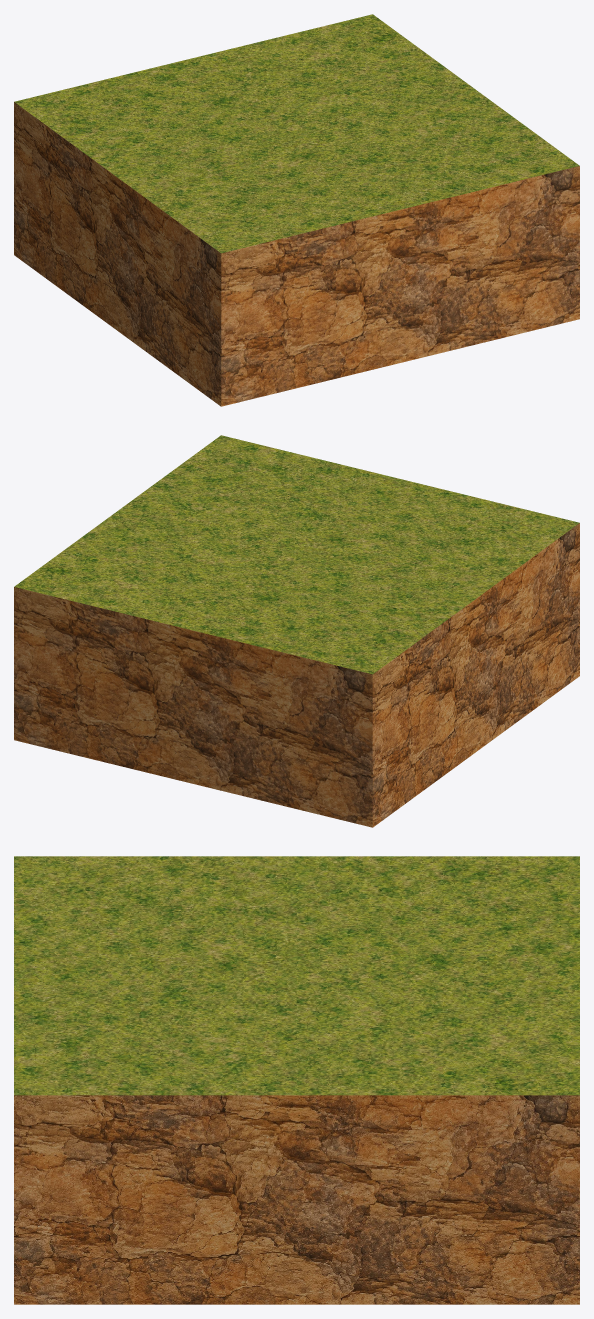
The model's file is plateau.glb.
3 views of the same model, one above another, from view 1: azimuth 30°, elevation 25°; view 2: azimuth 150°, elevation 25°; view 3: azimuth 270°, elevation 25° (orthographic). The views are drawn at different scales.
Parts seen in each view (by area): view 1: plateau; view 2: plateau; view 3: plateau.
Boxes of the visible parts, x1,y1,x2,y2 form: plateau: (14,14,579,406); plateau: (14,435,579,827); plateau: (14,856,579,1304).
Bounding box in the file's own units: 1 × 0.4082 × 1.
2 materials, 2 textured.
